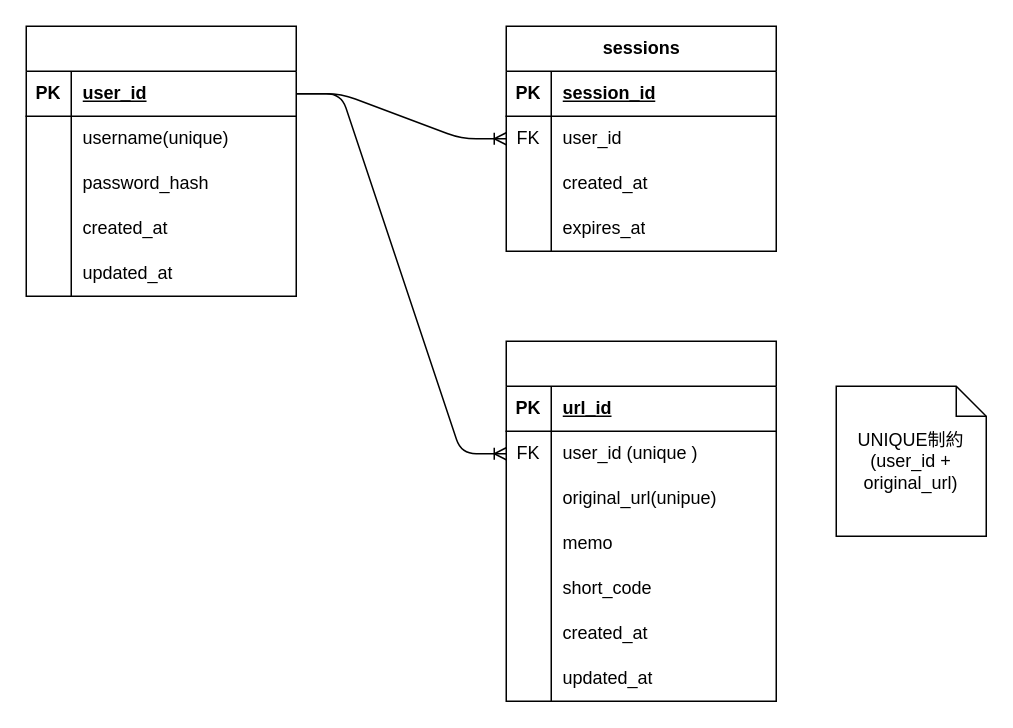
Image size: 1013x728. Some labels were removed from this diagram. Here are the shapes that lost their labels. From the top down, the box of each, then its label:
(25, 25, 296, 296): users
(505, 340, 776, 701): urls
